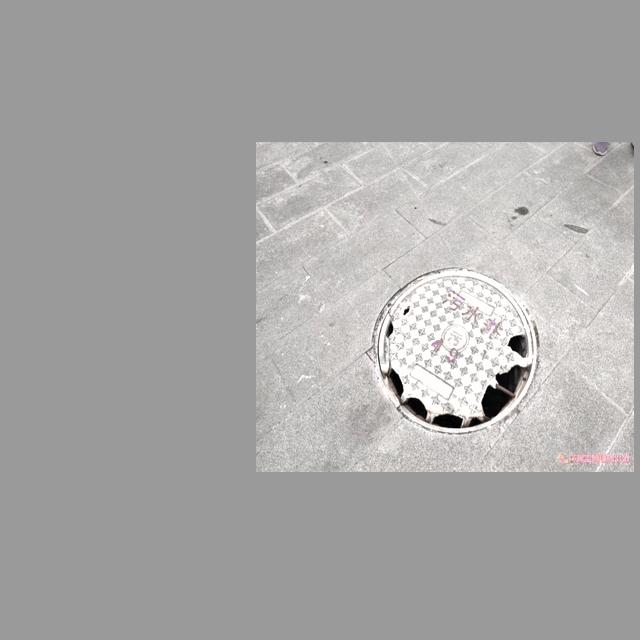broke: (364, 258, 547, 441)
